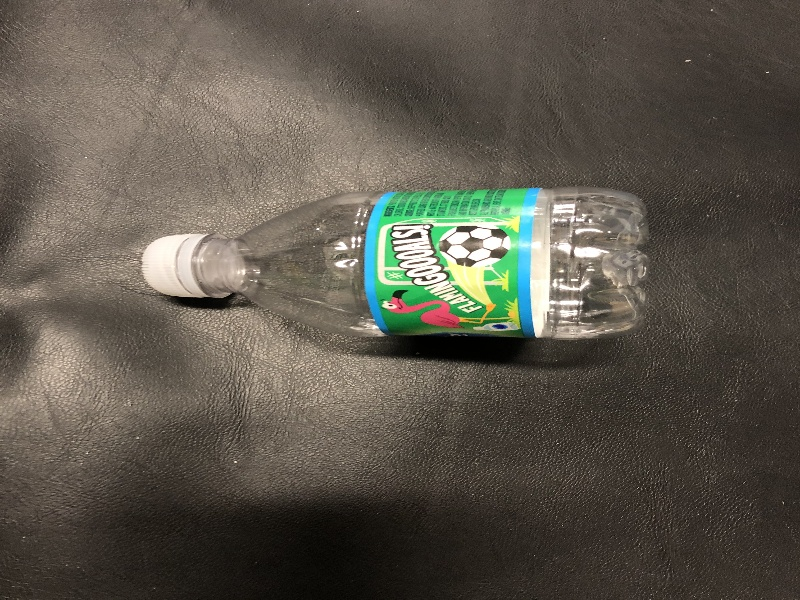plastic: (134, 163, 654, 359)
